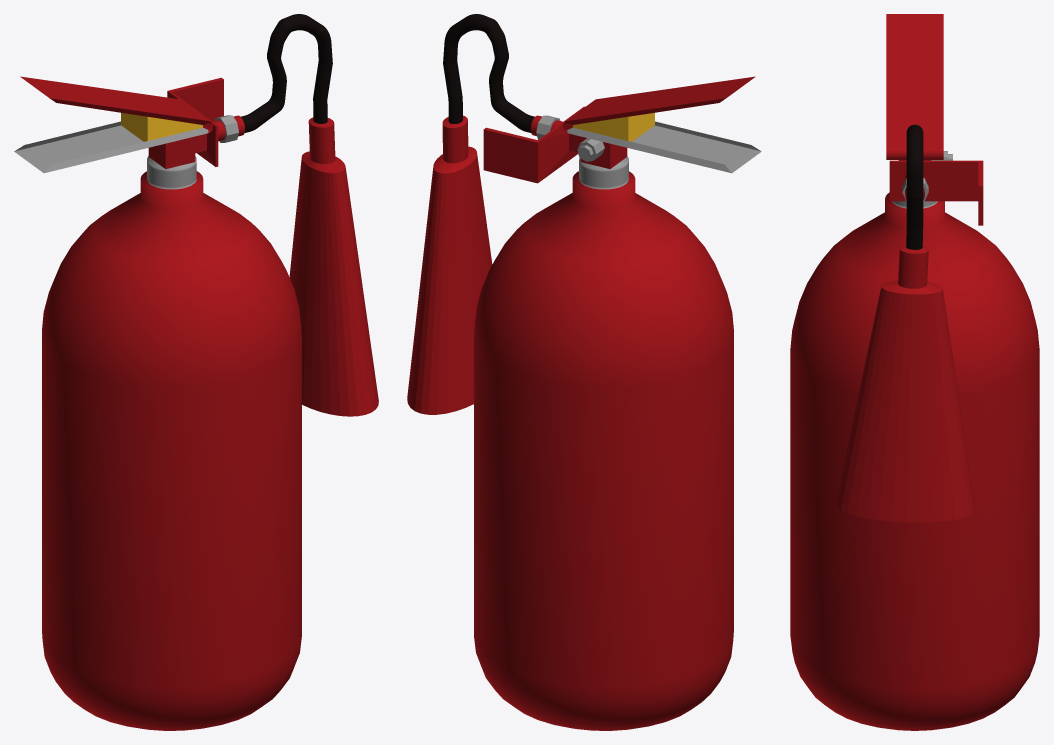
Rendered from EXTINTOR1.glb.
3 renders of one model, left to right at view 1: azimuth 30°, elevation 25°; view 2: azimuth 150°, elevation 25°; view 3: azimuth 270°, elevation 25°, orthographic. The views are drawn at different scales.
Visible parts, largest first — view 1: Cylinder, Cylinder.002, Plane, Cube.001, Cube; view 2: Cylinder, Cylinder.002, Plane, Cube.001, Cube; view 3: Cylinder, Cylinder.002, Plane, Cube.001.
Part boxes in pixels (box(x1,y1,x2,y2)): Cylinder: box(42, 156, 301, 730); Cylinder.002: box(213, 14, 378, 416); Plane: box(14, 76, 212, 173); Cube.001: box(148, 77, 223, 168); Cube: box(121, 113, 202, 141); Cylinder: box(474, 156, 733, 730); Cylinder.002: box(407, 14, 562, 414); Plane: box(563, 76, 761, 173); Cube.001: box(483, 106, 627, 183); Cube: box(573, 112, 654, 141); Cylinder: box(790, 192, 1039, 730); Cylinder.002: box(835, 124, 975, 522); Plane: box(886, 14, 943, 159); Cube.001: box(889, 160, 983, 225).
Size of the model in its own units: 2.46 by 4.65 by 1.67.
